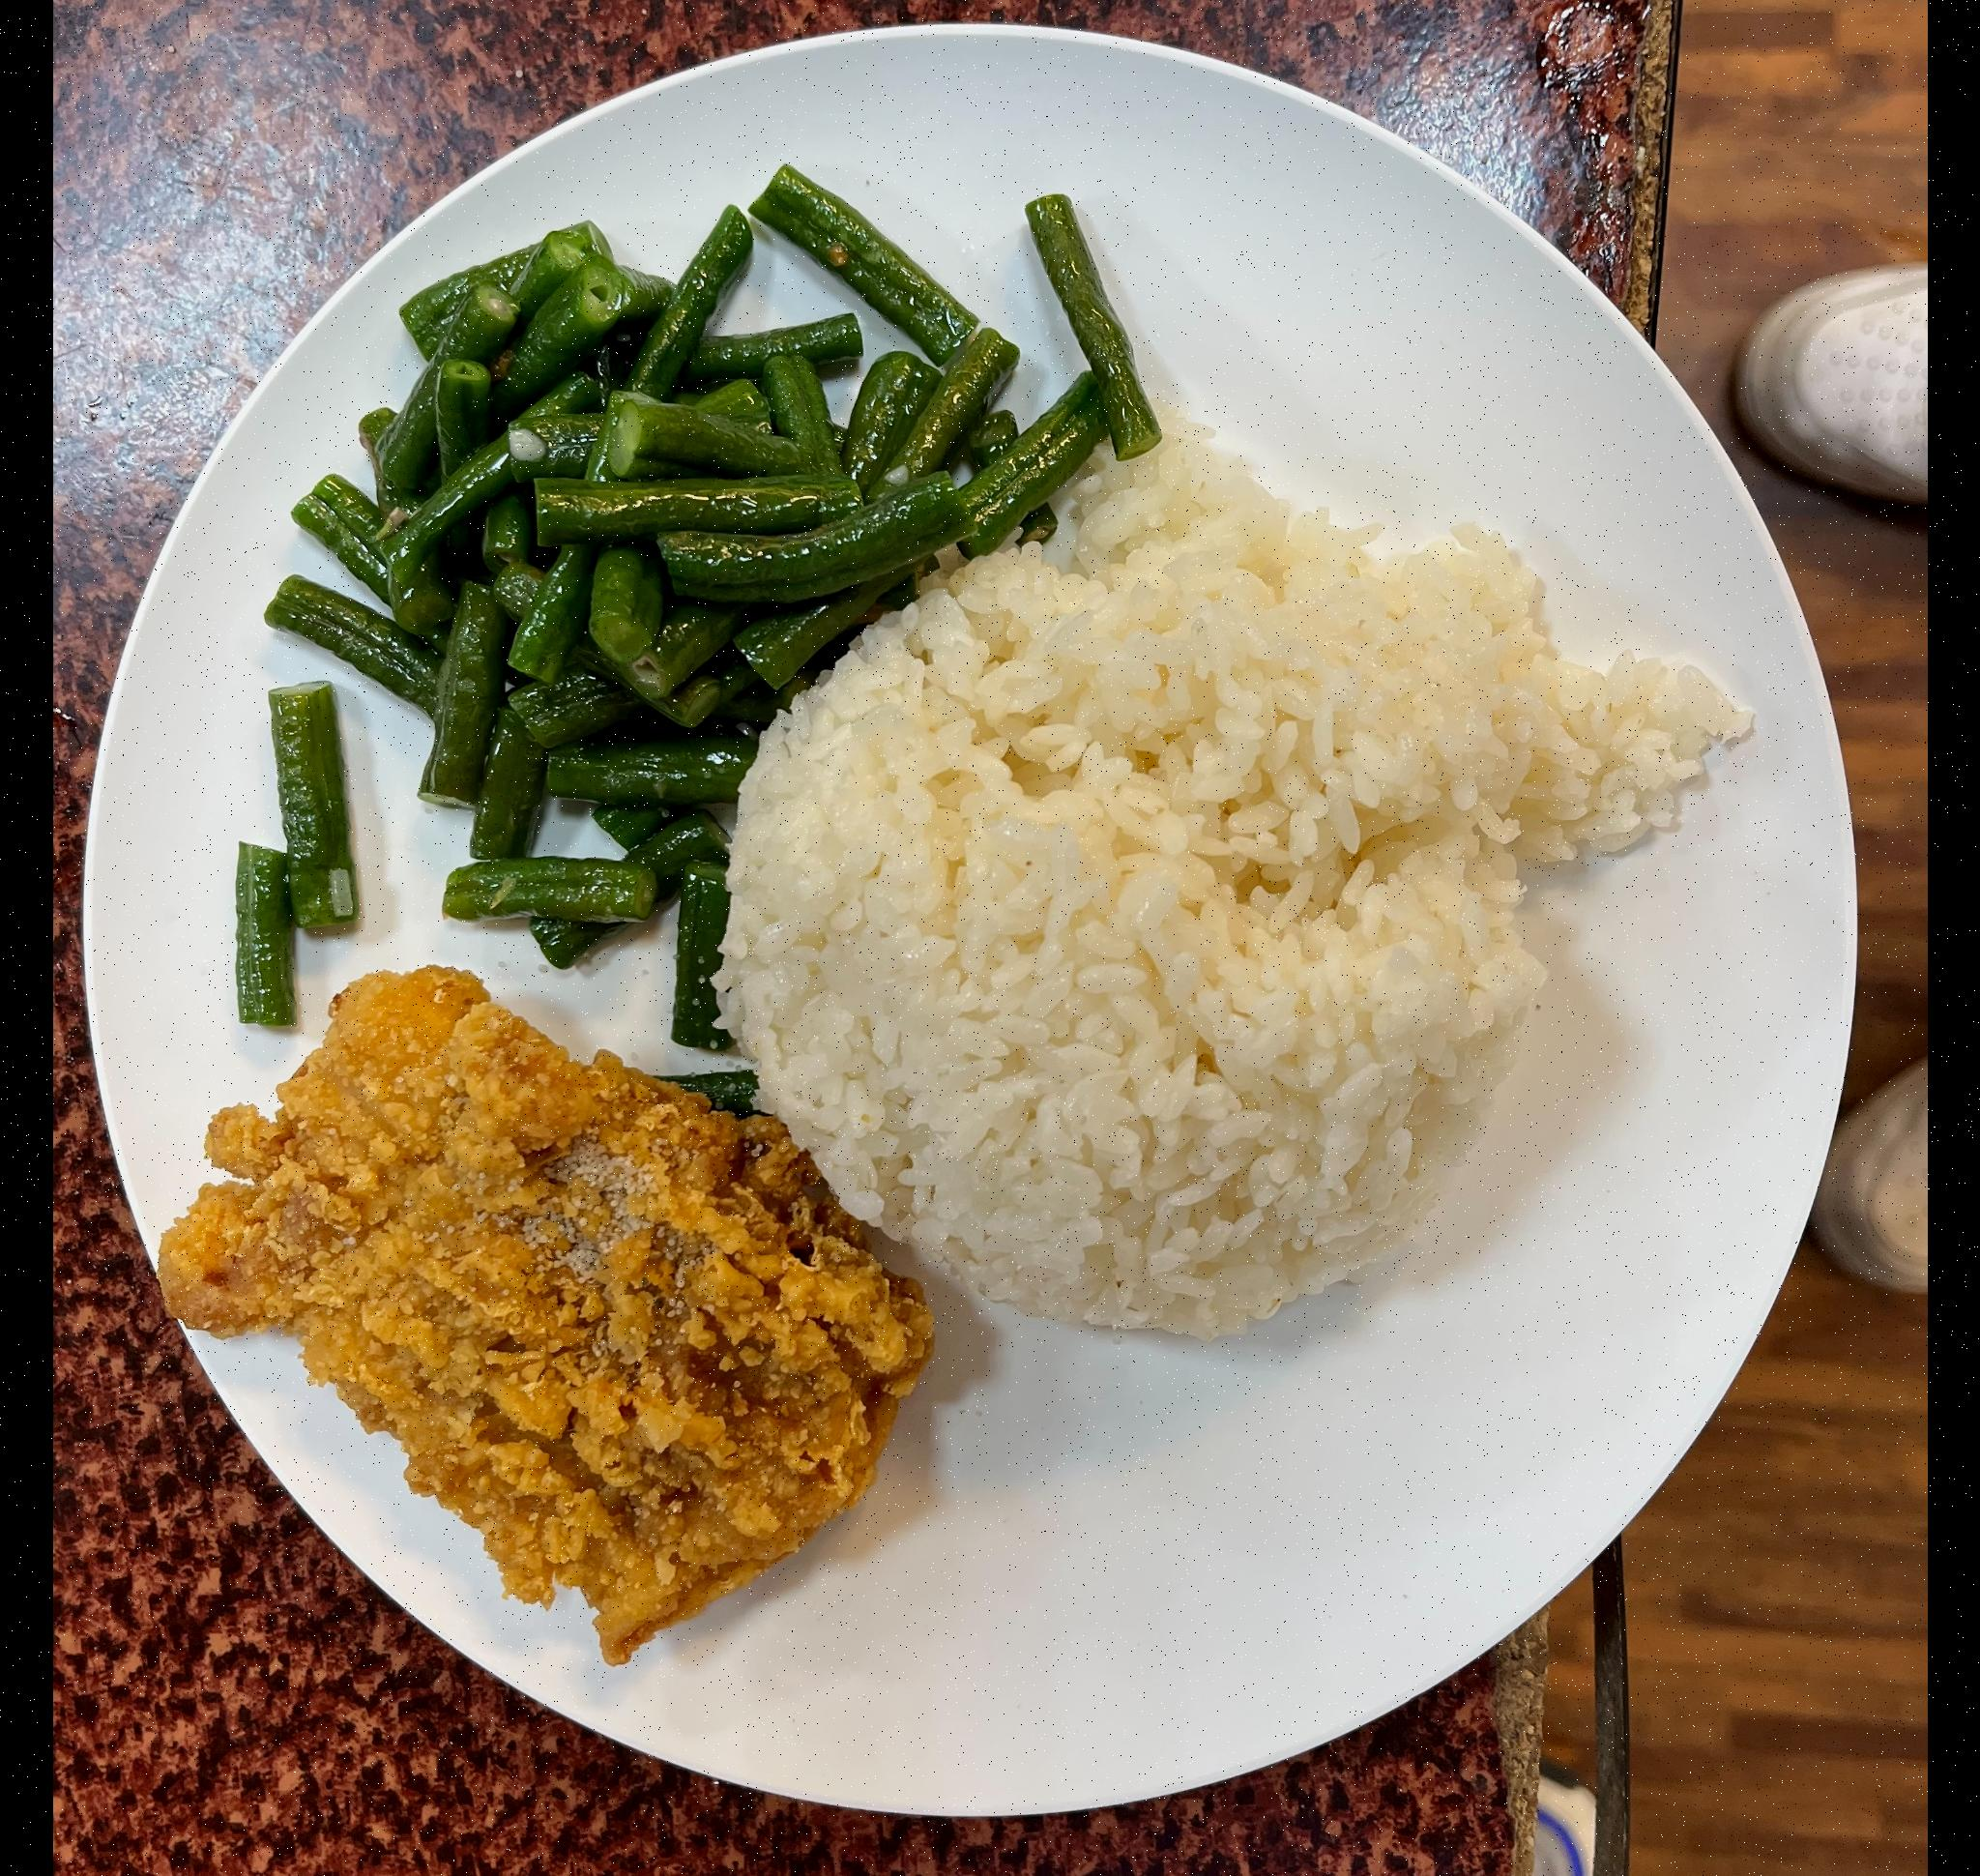kara chicken leg steak: (146, 950, 931, 1682)
plate: (69, 0, 1881, 1834)
side dish: (194, 136, 1180, 1024)
white rice: (723, 469, 1744, 1345)
